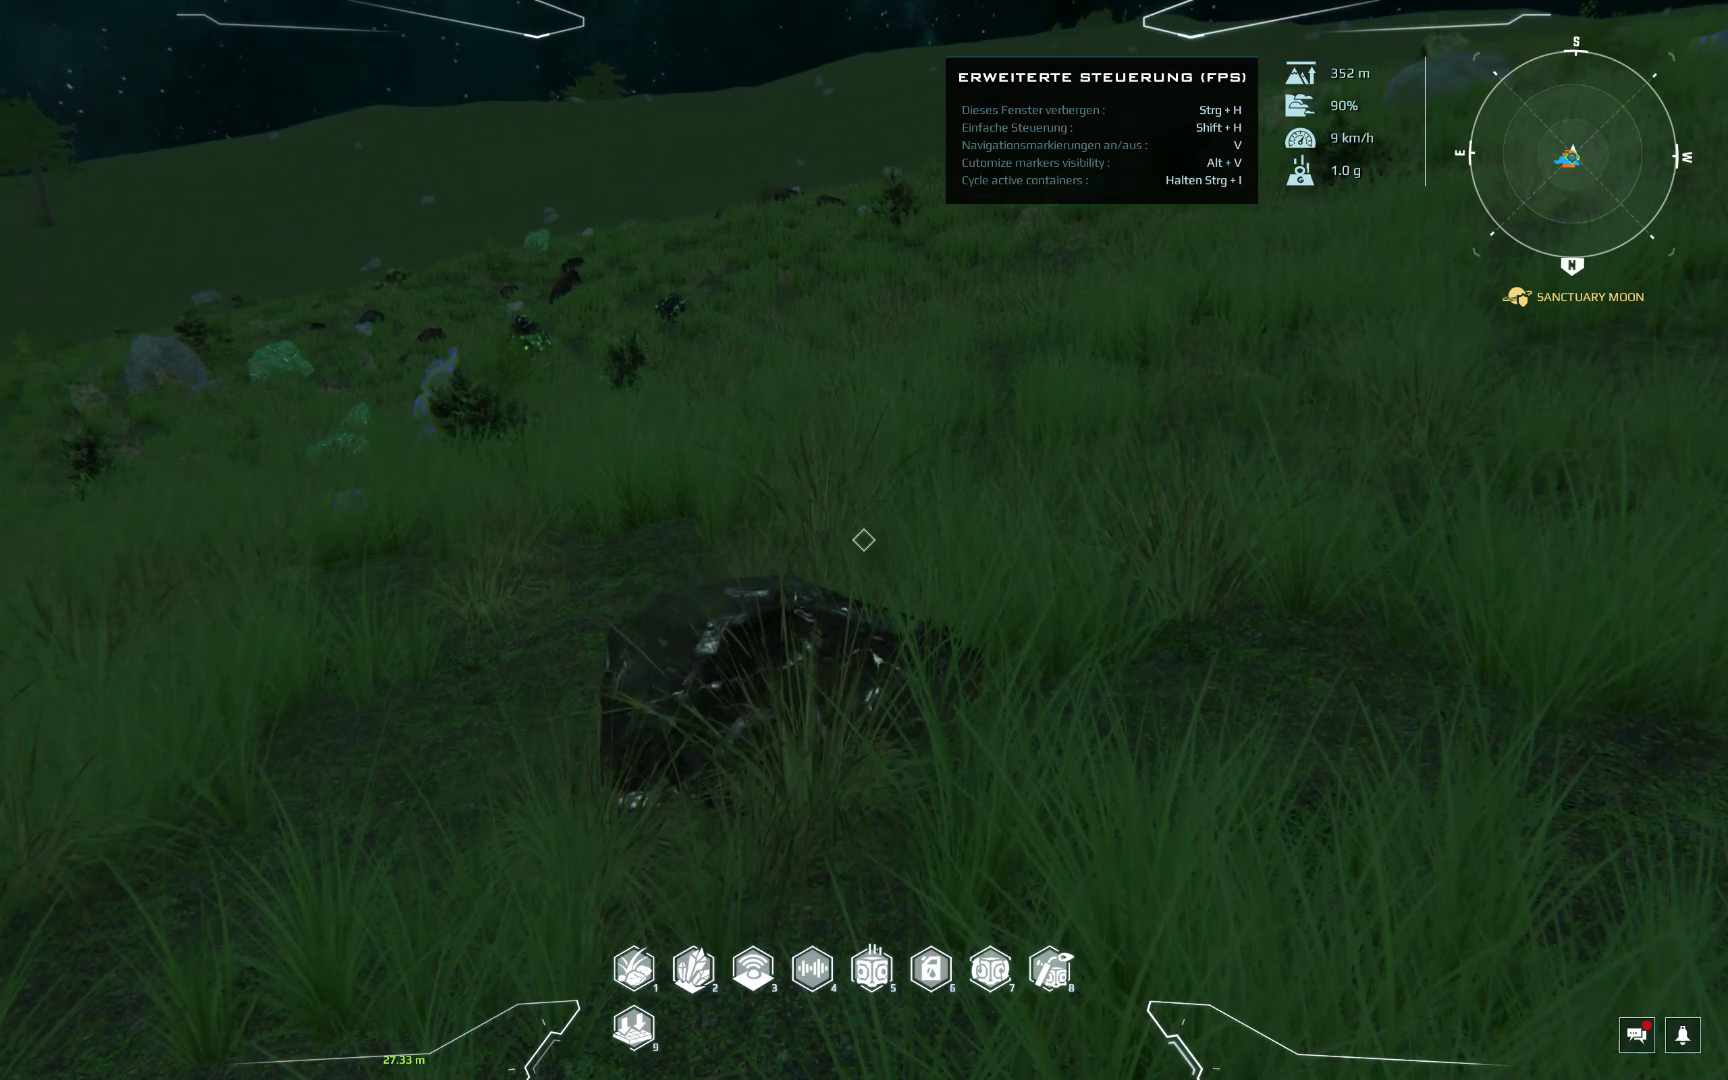Ore: (587, 570, 980, 804), (299, 399, 374, 467), (238, 333, 322, 382), (501, 314, 552, 361), (546, 255, 588, 306), (651, 290, 693, 322), (755, 185, 801, 205), (521, 226, 555, 253), (413, 324, 449, 345), (357, 304, 386, 326), (812, 194, 846, 210), (496, 281, 519, 300), (304, 317, 328, 331)
